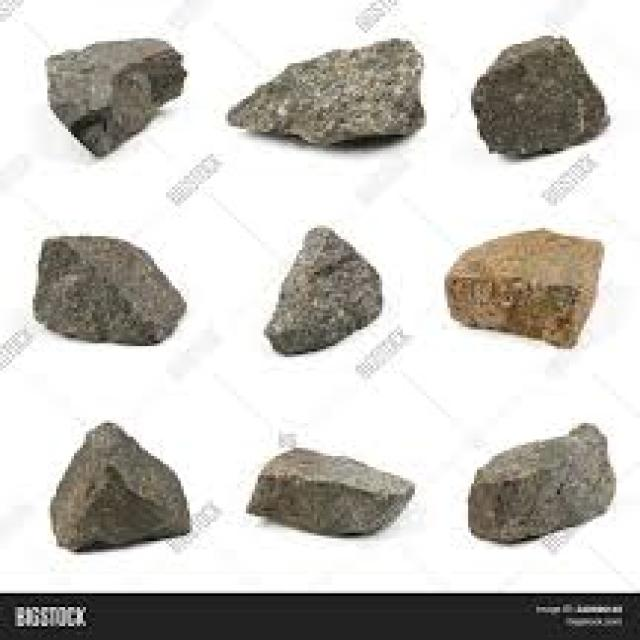Metamorphic: (217, 33, 450, 159), (427, 220, 610, 352), (459, 33, 625, 165), (42, 420, 202, 552), (21, 223, 192, 346), (456, 415, 614, 541), (36, 30, 190, 151), (249, 437, 424, 538), (267, 223, 385, 357)
